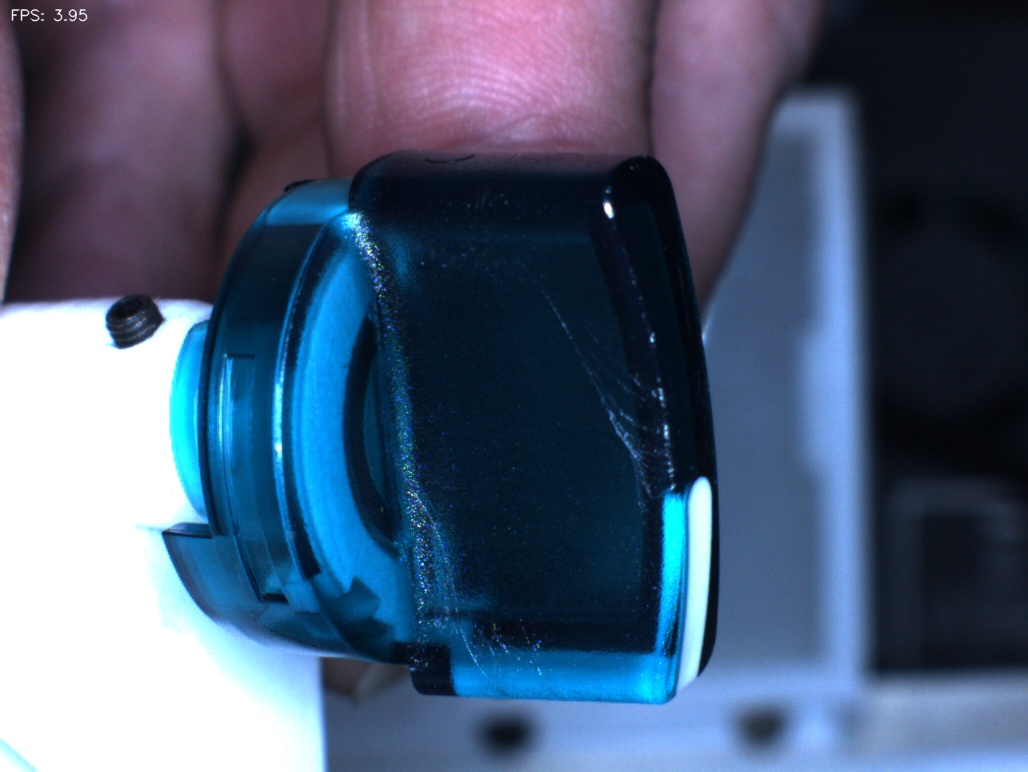Givrage: (456, 600, 555, 695)
